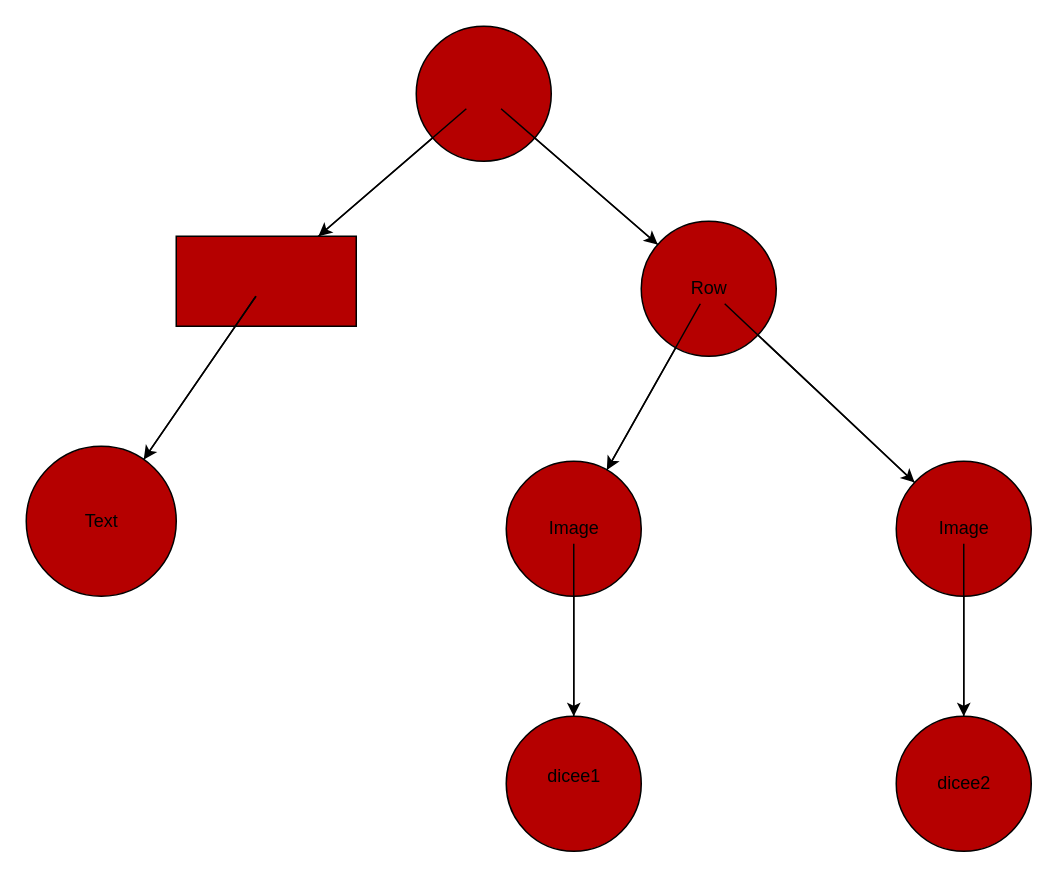
This 1058x878 diagram has some shape labels left out. The shapes that lost their labels are listed below. From the top down, each one's centre as x and y in pixels, then its label:
the point at 483,93: scaffold
the point at 265,280: appBarr
